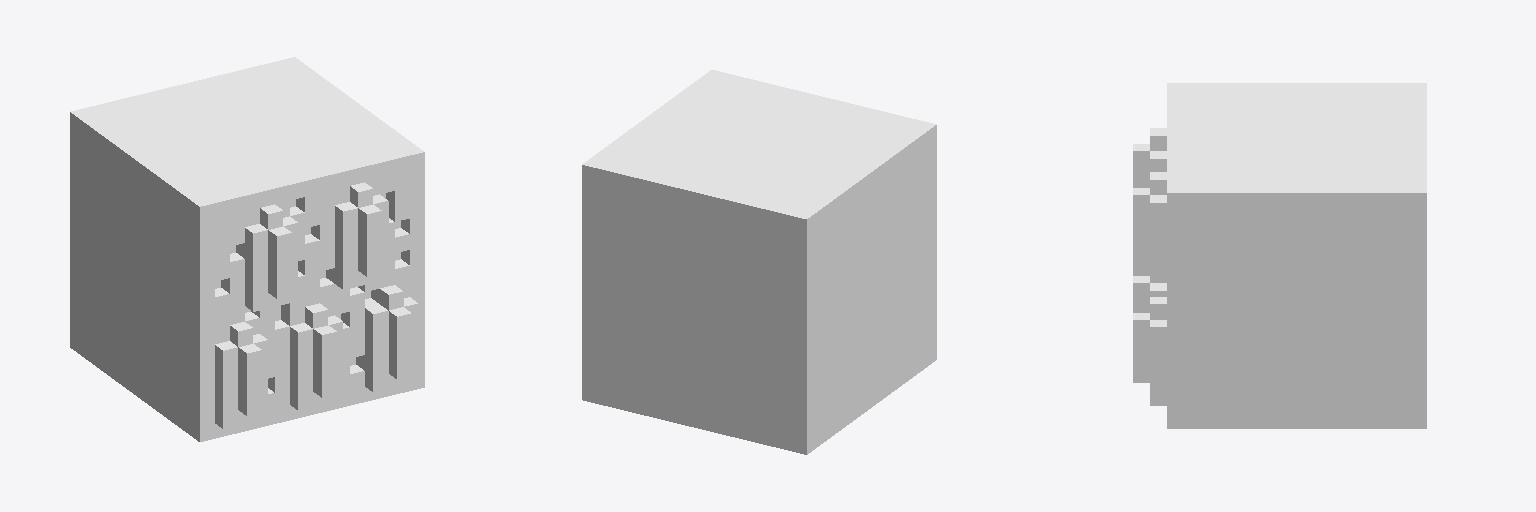
File: rapid_fire_cube.obj
The picture shows the model from 3 angles: view 1: azimuth 30°, elevation 25°; view 2: azimuth 150°, elevation 25°; view 3: azimuth 270°, elevation 25°; orthographic projection.
Parts seen in each view (by area): view 1: object 1; view 2: object 1; view 3: object 1.
Part boxes in pixels (x1,y1,x2,y2): object 1: (70, 57, 424, 441); object 1: (582, 70, 936, 454); object 1: (1133, 83, 1426, 428).
Bounding box in the file's own units: 1.5 × 1.5 × 1.7.